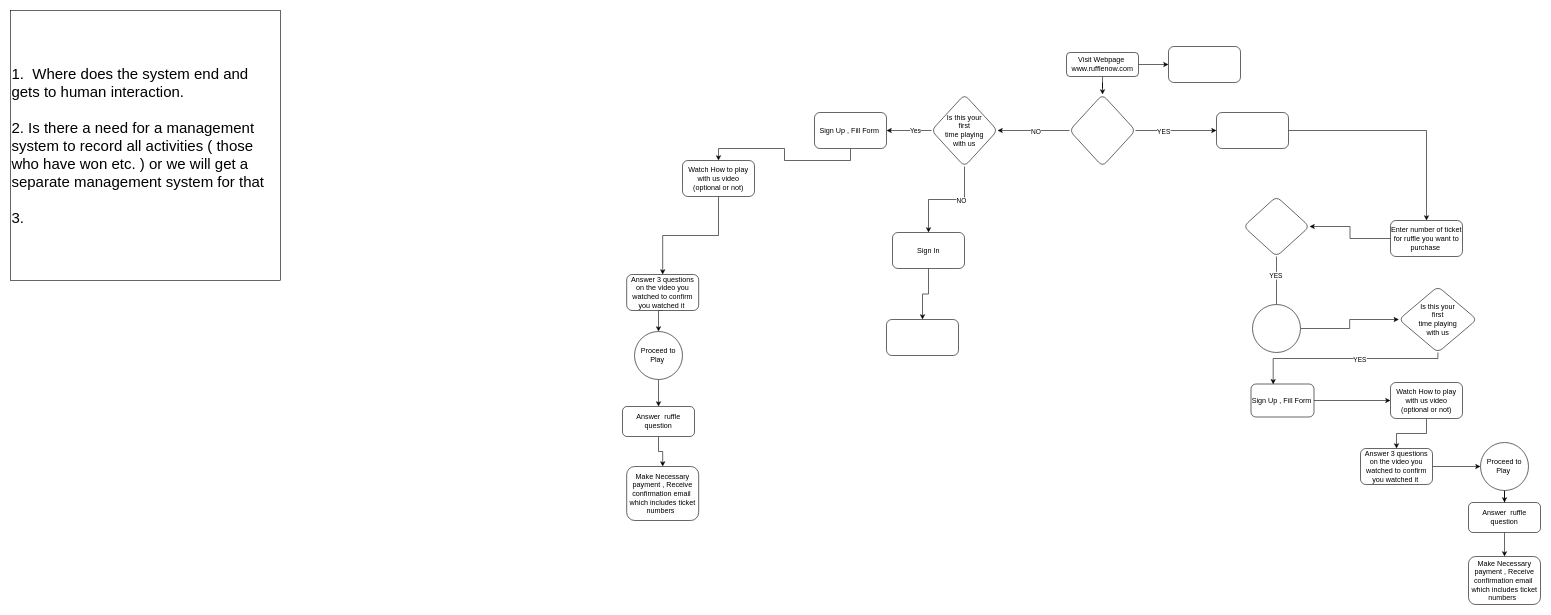
Some shapes in this 1551 by 615 pixel diagram are drawn without their labels. The shapes that lost their labels are listed below. From the top down, each one's centre as x and y in pixels, then its label:
At pixel 1204 64: "Listing of trending ruffle and all ruffles".
At pixel 1102 130: "Continue without signing in/up".
At pixel 1252 130: "Select ruffle you are interested In".
At pixel 1276 226: "Proceed TO Play ?".
At pixel 922 337: "Complete OTP Request".
At pixel 1276 328: "You have to sign in to continue".
